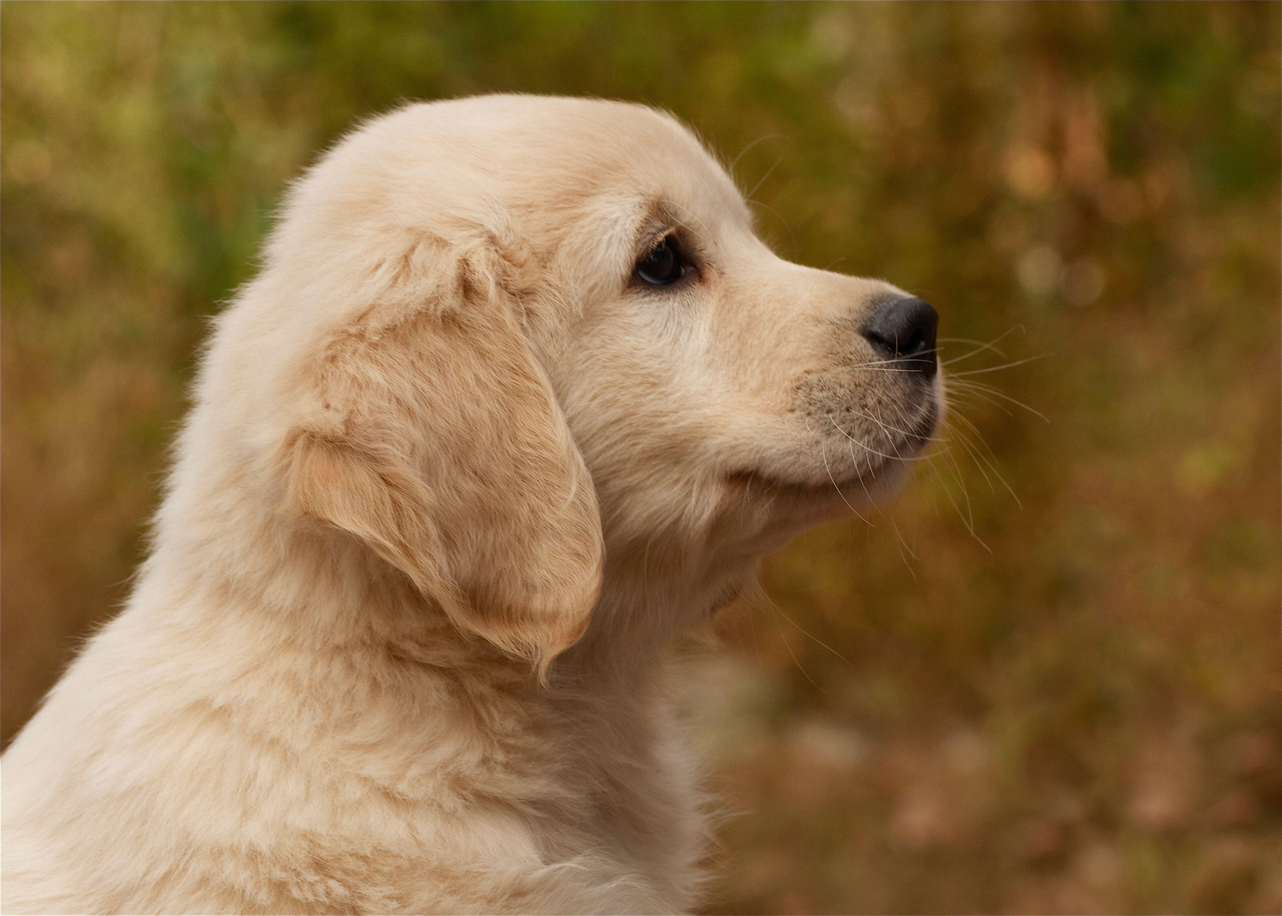puppy-dog: (0, 91, 960, 915)
